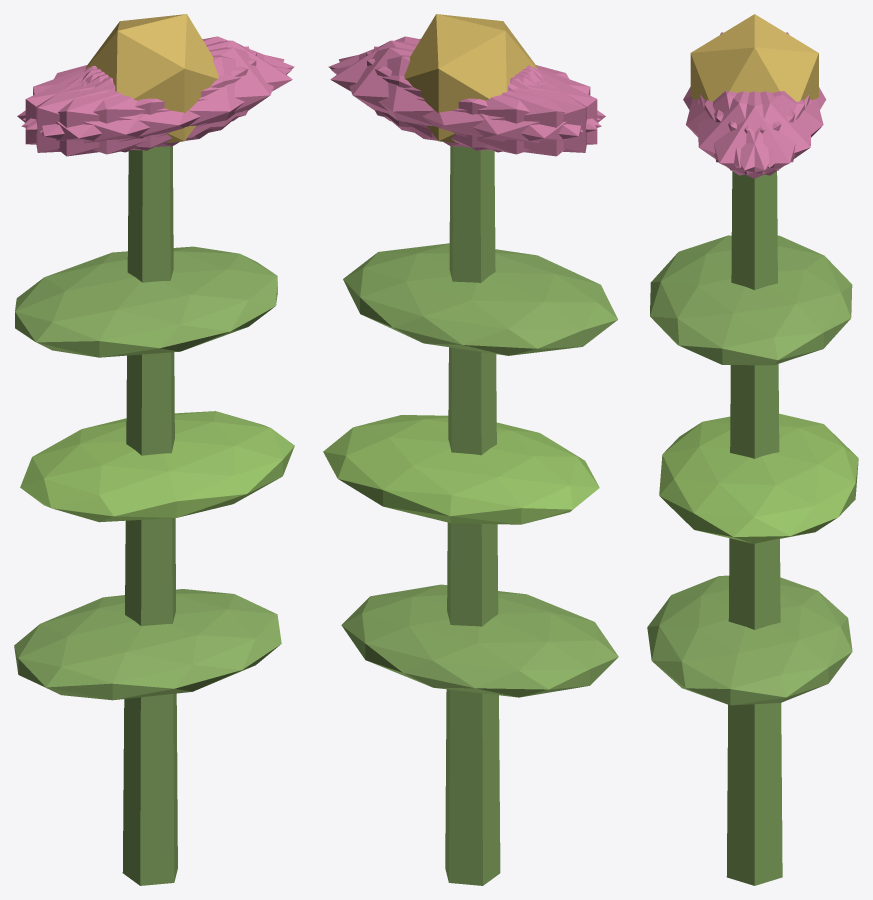
Rendered from meryta-sinclairii.glb.
3 views of the same model, side by side, from view 1: azimuth 30°, elevation 25°; view 2: azimuth 150°, elevation 25°; view 3: azimuth 270°, elevation 25° (orthographic).
Visible parts, largest first — view 1: stem, leaf2, leaf0, leaf1, center, petal1, petal6, petal2, petal5, petal7, petal0, petal4 (+2 smaller); view 2: stem, leaf2, leaf1, leaf0, center, petal8, petal3, petal7, petal4, petal2, petal0, petal5 (+2 smaller); view 3: stem, leaf2, leaf1, leaf0, center, petal0, petal5, petal4, petal1, petal8.
Part boxes in pixels (left/top/right/bottom): stem: left=122, top=146, right=177, bottom=885; leaf2: left=15, top=246, right=277, bottom=357; leaf0: left=14, top=589, right=281, bottom=700; leaf1: left=20, top=411, right=294, bottom=522; center: left=85, top=14, right=218, bottom=143; petal1: left=21, top=55, right=291, bottom=154; petal6: left=17, top=67, right=212, bottom=156; petal2: left=36, top=46, right=249, bottom=152; petal5: left=40, top=47, right=284, bottom=147; petal7: left=25, top=52, right=256, bottom=150; petal0: left=85, top=40, right=292, bottom=137; petal4: left=23, top=36, right=294, bottom=129; stem: left=445, top=146, right=500, bottom=885; leaf2: left=343, top=243, right=617, bottom=355; leaf1: left=323, top=415, right=599, bottom=524; leaf0: left=341, top=584, right=618, bottom=697; center: left=404, top=14, right=537, bottom=143; petal8: left=331, top=55, right=601, bottom=154; petal3: left=410, top=67, right=605, bottom=156; petal7: left=374, top=46, right=586, bottom=152; petal4: left=339, top=47, right=583, bottom=147; petal2: left=366, top=52, right=597, bottom=150; petal0: left=330, top=40, right=537, bottom=137; petal5: left=328, top=36, right=600, bottom=129; stem: left=726, top=171, right=782, bottom=885; leaf2: left=650, top=235, right=852, bottom=365; leaf1: left=659, top=413, right=858, bottom=543; leaf0: left=647, top=575, right=852, bottom=705; center: left=690, top=14, right=818, bottom=101; petal0: left=699, top=91, right=809, bottom=178; petal5: left=698, top=91, right=804, bottom=175; petal4: left=704, top=91, right=811, bottom=175; petal1: left=686, top=91, right=795, bottom=167; petal8: left=714, top=91, right=823, bottom=167.
Size of the model in its own units: 0.1468 by 0.4439 by 0.101.
